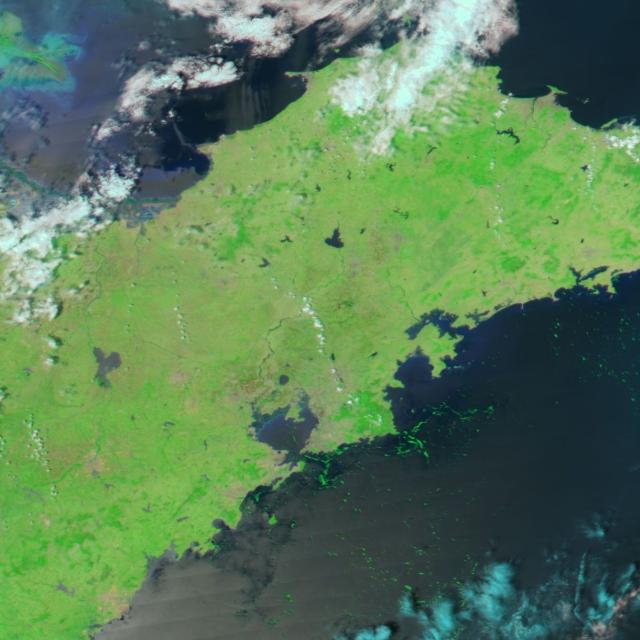algal: (0, 50, 639, 639)
